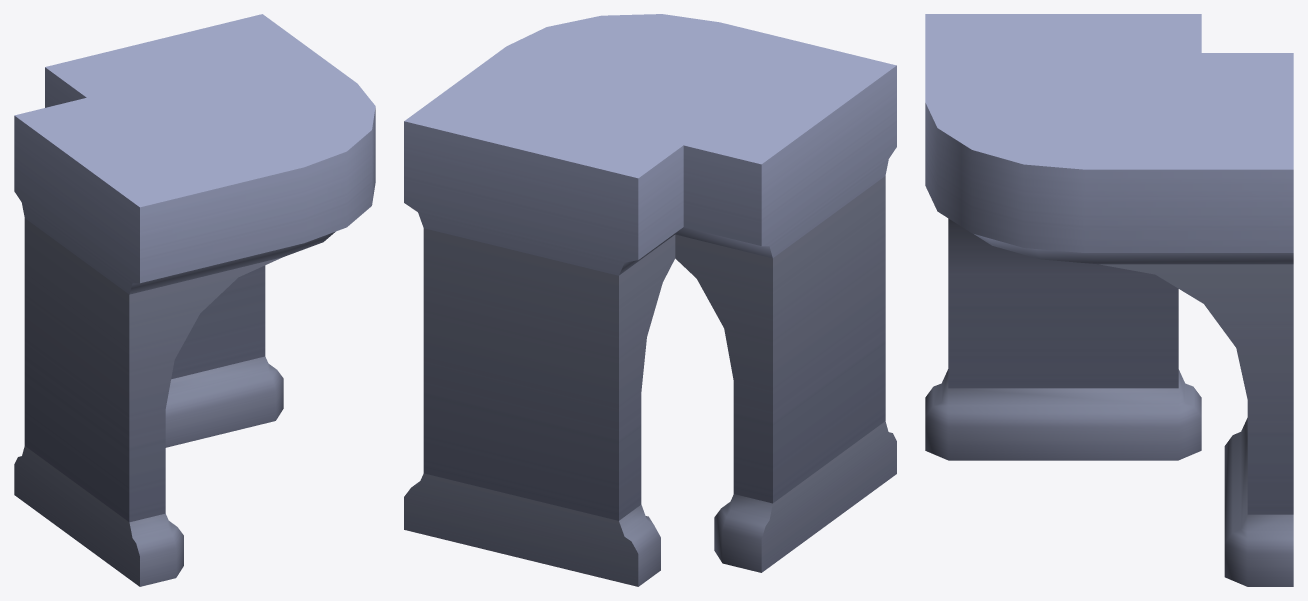
Rendered from wall-corner.obj.
3 renders of one model, left to right at view 1: azimuth 30°, elevation 25°; view 2: azimuth 150°, elevation 25°; view 3: azimuth 270°, elevation 25°, orthographic. The views are drawn at different scales.
Parts seen in each view (by area): view 1: wall-corner; view 2: wall-corner; view 3: wall-corner.
Boxes of the visible parts, box(x1,y1,x2,y2) form: wall-corner: box(14, 14, 375, 586); wall-corner: box(404, 14, 896, 586); wall-corner: box(925, 14, 1293, 586).
Size of the model in its own units: 0.8 by 1 by 0.8.
1 material, 1 textured.
